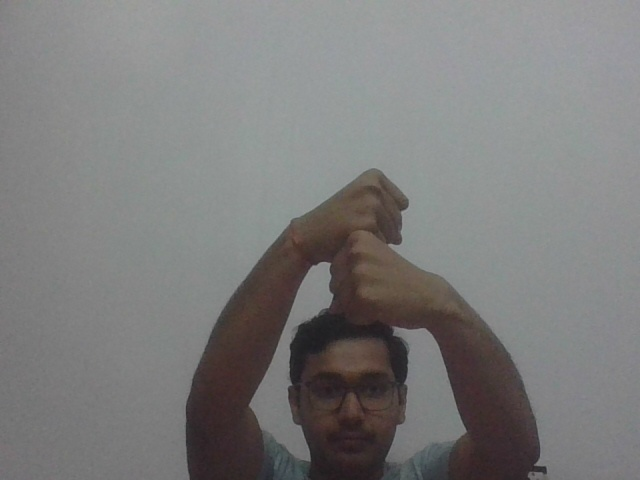G: (319, 153, 435, 316)
